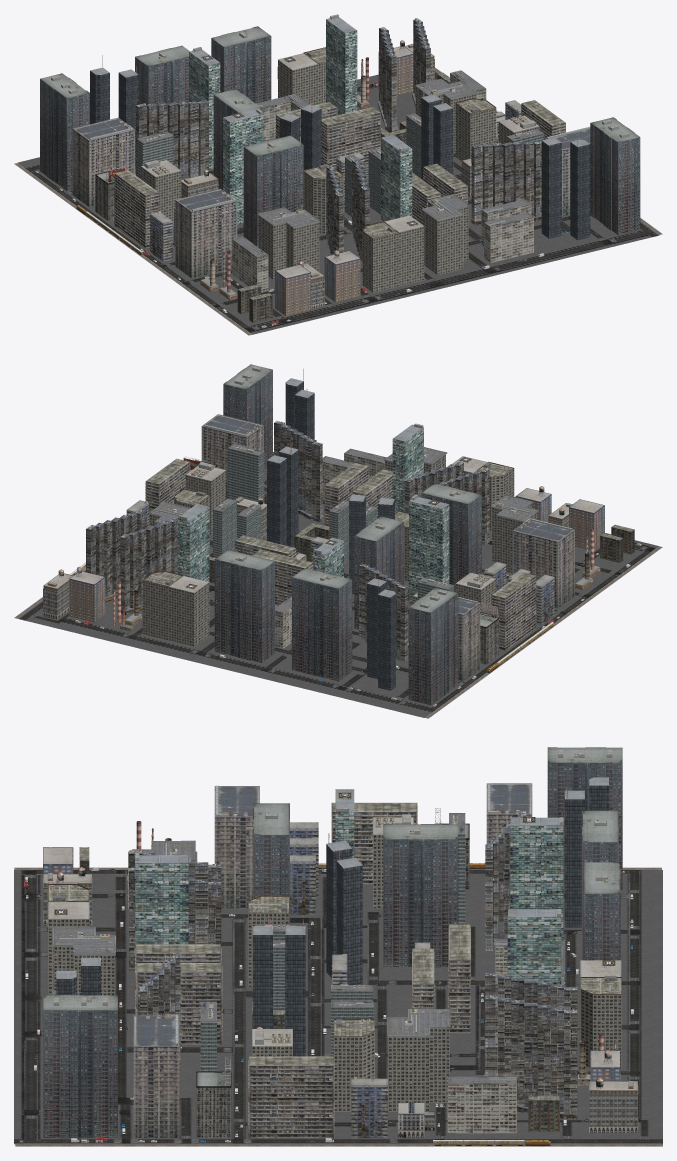
The model's file is city-draco.glb.
The picture shows the model from 3 angles, top to bottom: view 1: azimuth 30°, elevation 25°; view 2: azimuth 150°, elevation 25°; view 3: azimuth 270°, elevation 25°; orthographic projection. The views are drawn at different scales.
Visible parts, largest first — view 1: Plane_504, Building2_8, Building2.005_447, Building12.002_173, Building3.002_463, Building2.003_272, Building12.005_400, Building3.001_278, Building2.002_209, building.018_337, building.012_219, Building1.001_200 (+50 smaller); view 2: Plane_504, Building2.002_209, Building2.004_430, Building2.003_272, Building3.002_463, Building1.002_265, Building12.001_99, Building2.005_447, Building2.001_205, Building2_8, building.007_165, Building12_104 (+45 smaller); view 3: Plane_504, Building2_8, Building2.001_205, Building12_104, Building5_51, building.001_97, Building3_14, Building1_1, Building1.003_425, Building3.002_463, Building2.003_272, Building10_132 (+49 smaller).
Boxes of the visible parts, x1,y1,x2,y2 form: Plane_504: (18, 71, 659, 334); Building2_8: (590, 117, 640, 234); Building2.005_447: (243, 135, 303, 247); Building12.002_173: (471, 140, 541, 220); Building3.002_463: (175, 189, 237, 278); Building2.003_272: (40, 73, 89, 190); Building12.005_400: (136, 100, 208, 177); Building3.001_278: (73, 117, 134, 207); Building2.002_209: (211, 26, 271, 103); building.018_337: (257, 207, 320, 279); building.012_219: (421, 194, 469, 274); Building1.001_200: (326, 17, 357, 115); Plane_504: (18, 452, 658, 717); Building2.002_209: (214, 549, 274, 662); Building2.004_430: (292, 568, 352, 681); Building2.003_272: (408, 587, 458, 705); Building3.002_463: (512, 520, 574, 608); Building1.002_265: (409, 497, 449, 605); Building12.001_99: (120, 517, 177, 610); Building2.005_447: (421, 483, 481, 592); Building2.001_205: (354, 516, 404, 629); Building2_8: (223, 364, 272, 468); building.007_165: (168, 576, 209, 646); Building12_104: (86, 509, 145, 597); Plane_504: (14, 870, 662, 1144); Building2_8: (43, 995, 117, 1138); Building2.001_205: (383, 824, 458, 967); Building12_104: (485, 996, 577, 1113); Building5_51: (248, 1056, 334, 1138); building.001_97: (387, 1009, 450, 1111); Building3_14: (133, 1015, 179, 1137); Building1_1: (510, 817, 563, 939); Building1.003_425: (135, 855, 188, 1006); Building3.002_463: (214, 786, 259, 908); Building2.003_272: (547, 747, 622, 890); Building10_132: (447, 1076, 516, 1133).
Bounding box in the file's own units: 407 × 104 × 400.
6 materials, 6 textured.
